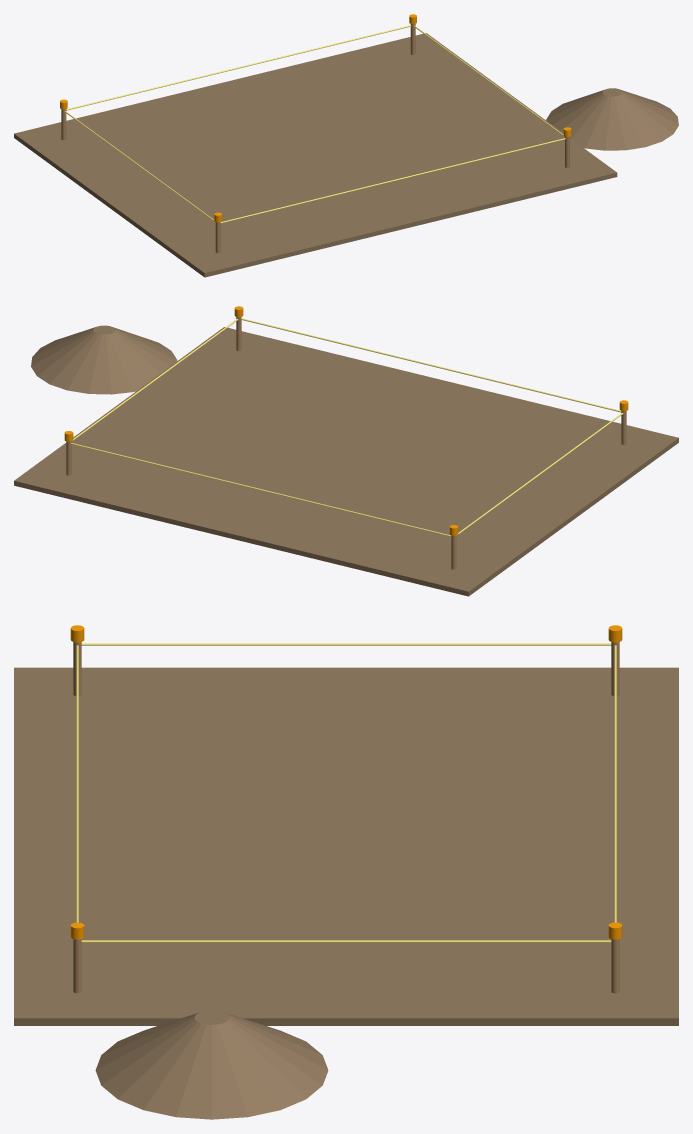
The model's file is Building4Stage0.glb.
3 renders of one model, top to bottom at view 1: azimuth 30°, elevation 25°; view 2: azimuth 150°, elevation 25°; view 3: azimuth 270°, elevation 25°, orthographic. The views are drawn at different scales.
Parts seen in each view (by area): view 1: building4_stage0; view 2: building4_stage0; view 3: building4_stage0.
Boxes of the visible parts, x1,y1,x2,y2 form: building4_stage0: (14, 14, 678, 277); building4_stage0: (14, 306, 678, 596); building4_stage0: (14, 625, 678, 1119).
Size of the model in its own units: 14.89 by 1.15 by 9.42.
